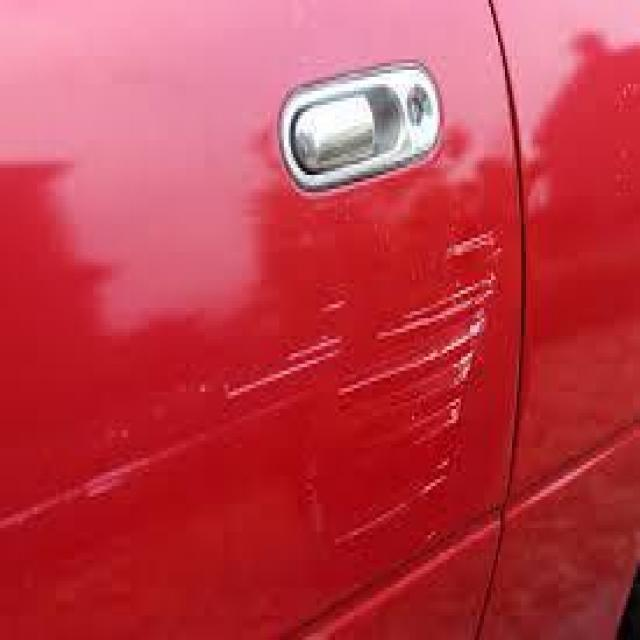damaged: (93, 234, 505, 542)
